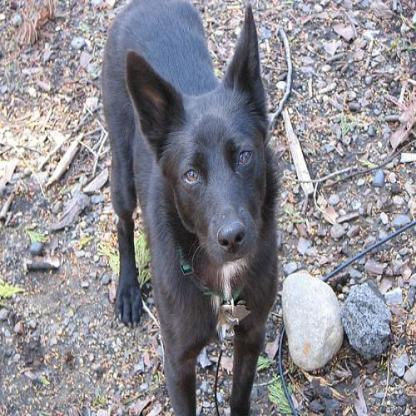kelpie: (98, 2, 279, 414)
